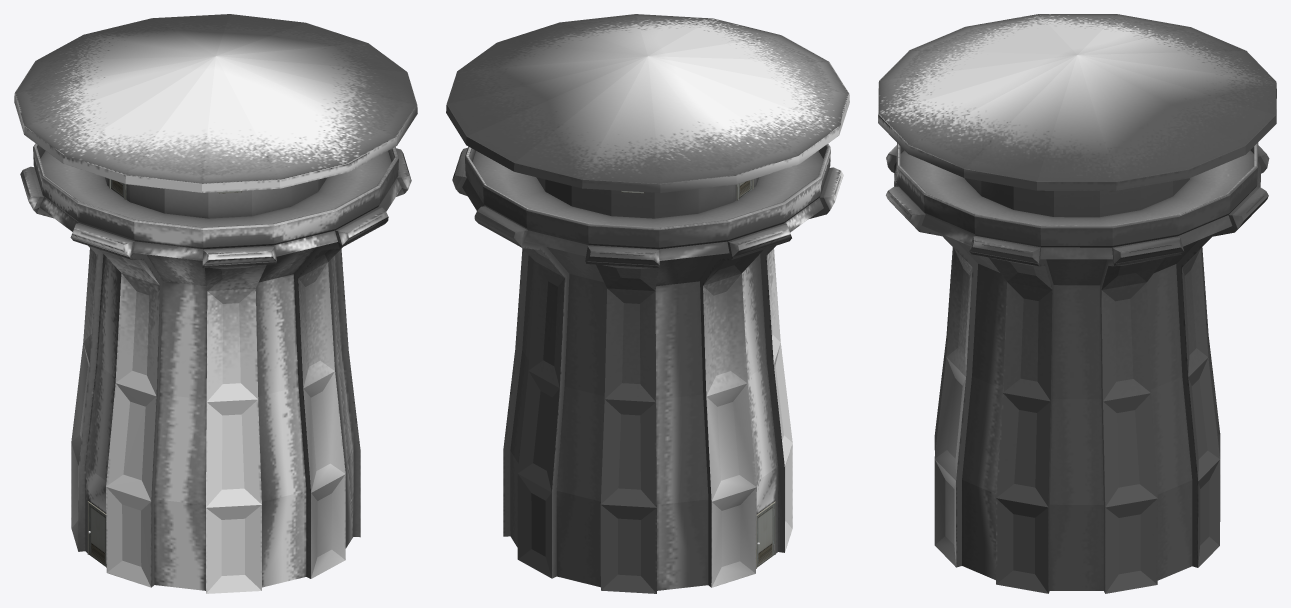
Rendered from BigTower.fbx.
The picture shows the model from 3 angles, left to right: view 1: azimuth 30°, elevation 25°; view 2: azimuth 150°, elevation 25°; view 3: azimuth 270°, elevation 25°; orthographic projection.
Parts seen in each view (by area): view 1: Base1:Layer1, Base1:Layer2; view 2: Base1:Layer1, Base1:Layer2; view 3: Base1:Layer1.
Part boxes in pixels (left/top/right/bottom): Base1:Layer1: left=14, top=14, right=417, bottom=593; Base1:Layer2: left=88, top=503, right=106, bottom=566; Base1:Layer1: left=446, top=14, right=849, bottom=593; Base1:Layer2: left=757, top=504, right=774, bottom=567; Base1:Layer1: left=878, top=14, right=1276, bottom=593.
Bounding box in the file's own units: 1678 × 2225 × 1678.
13 materials, 9 textured.
